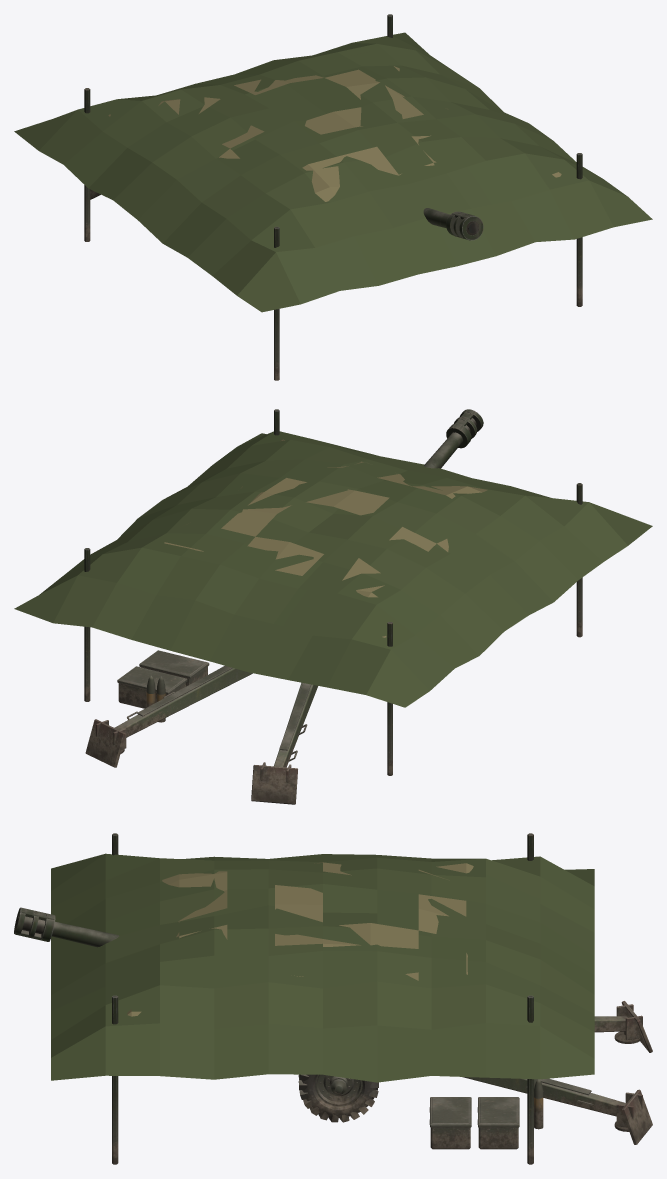
The model's file is Weathered_Artillery.fbx.
3 views of the same model, one above another, from view 1: azimuth 30°, elevation 25°; view 2: azimuth 150°, elevation 25°; view 3: azimuth 270°, elevation 25° (orthographic). The views are drawn at different scales.
Visible parts, largest first — view 1: Enemy_Artillery_Mesh, Barrel; view 2: Enemy_Artillery_Mesh, Barrel; view 3: Enemy_Artillery_Mesh, Barrel.
Part boxes in pixels (x1,y1,x2,y2): Enemy_Artillery_Mesh: (14, 14, 652, 380); Barrel: (423, 208, 483, 240); Enemy_Artillery_Mesh: (14, 409, 652, 804); Barrel: (424, 409, 483, 468); Enemy_Artillery_Mesh: (51, 833, 652, 1164); Barrel: (14, 907, 118, 947).
Bounding box in the file's own units: 6.2 × 2.57 × 8.
